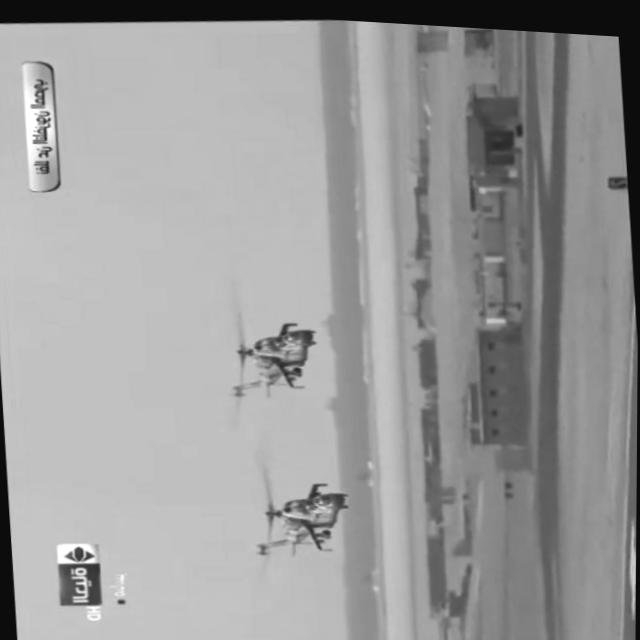helikopter: (222, 446, 362, 564), (222, 298, 346, 410)
